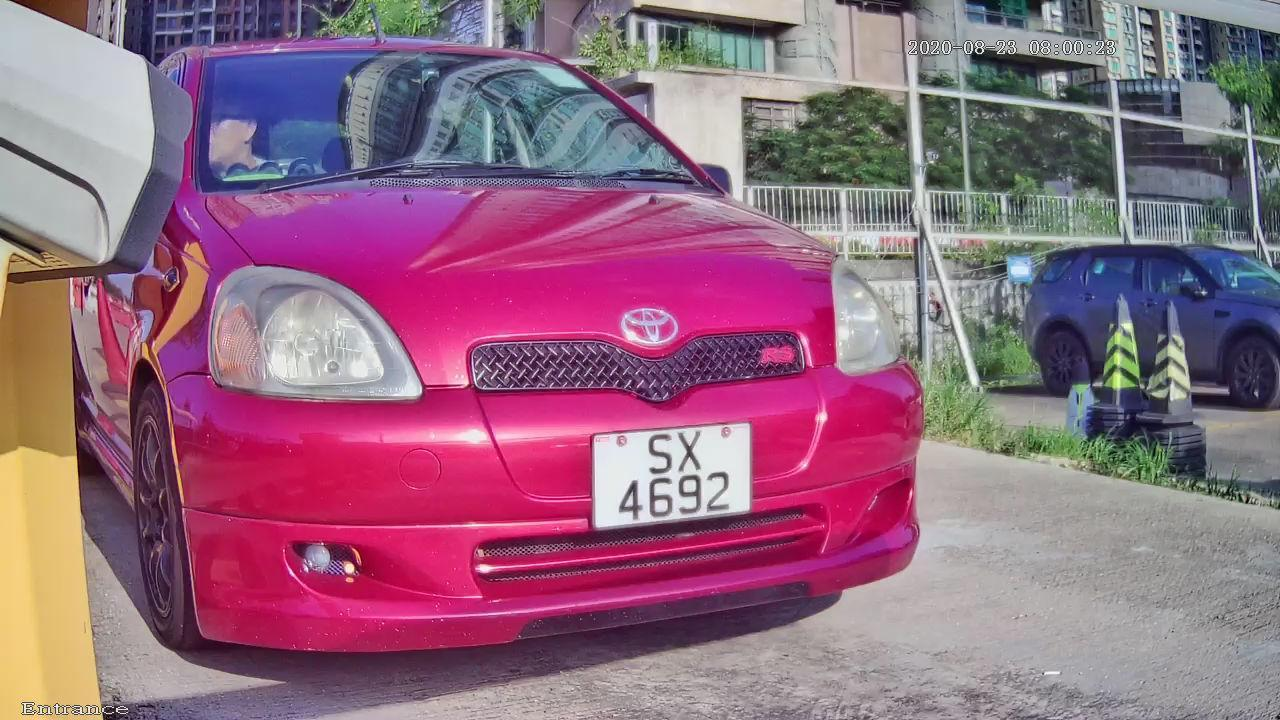Car: (18, 7, 1023, 720)
License Plate: (572, 406, 761, 544)
